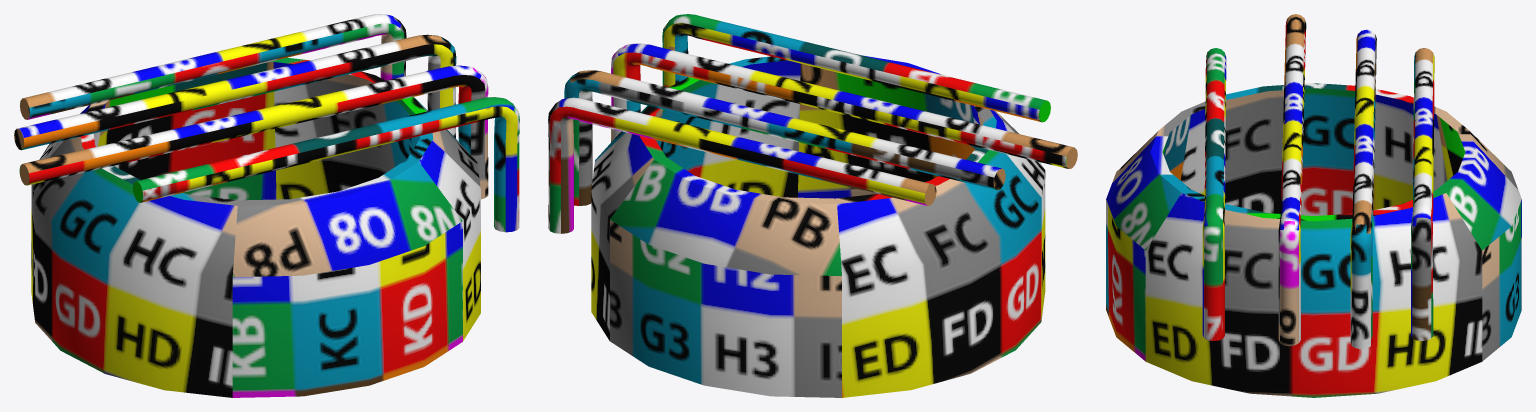
The model's file is fancage.obj.
3 views of the same model, side by side, from view 1: azimuth 30°, elevation 25°; view 2: azimuth 150°, elevation 25°; view 3: azimuth 270°, elevation 25° (orthographic). The views are drawn at different scales.
Visible parts, largest first — view 1: default; view 2: default; view 3: default.
Boxes of the visible parts, left/top/right/bottom form: default: left=14, top=14, right=519, bottom=397; default: left=548, top=14, right=1077, bottom=397; default: left=1106, top=14, right=1521, bottom=397.
Bounding box in the file's own units: 6.9 × 2.89 × 5.79.
